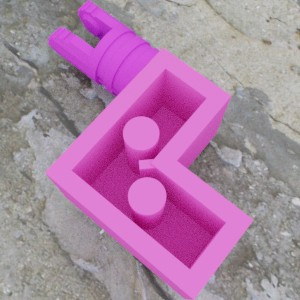lego: (44, 47, 253, 299), (47, 0, 182, 119)
